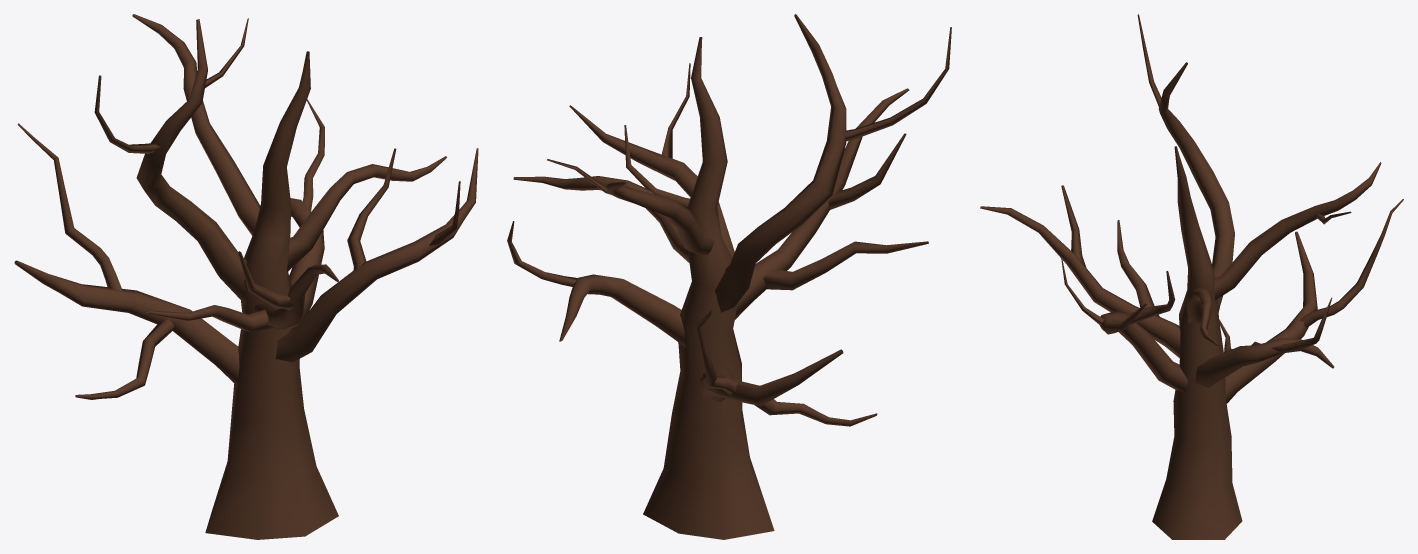
The model's file is Tree_3.fbx.
The picture shows the model from 3 angles, left to right: view 1: azimuth 30°, elevation 25°; view 2: azimuth 150°, elevation 25°; view 3: azimuth 270°, elevation 25°; orthographic projection. The views are drawn at different scales.
Parts seen in each view (by area): view 1: Tree_3; view 2: Tree_3; view 3: Tree_3.
Part boxes in pixels (x1=…): Tree_3: x1=14, y1=14, x2=478, y2=539; Tree_3: x1=507, y1=14, x2=951, y2=539; Tree_3: x1=980, y1=14, x2=1403, y2=539.
Bounding box in the file's own units: 154 × 193 × 175.
